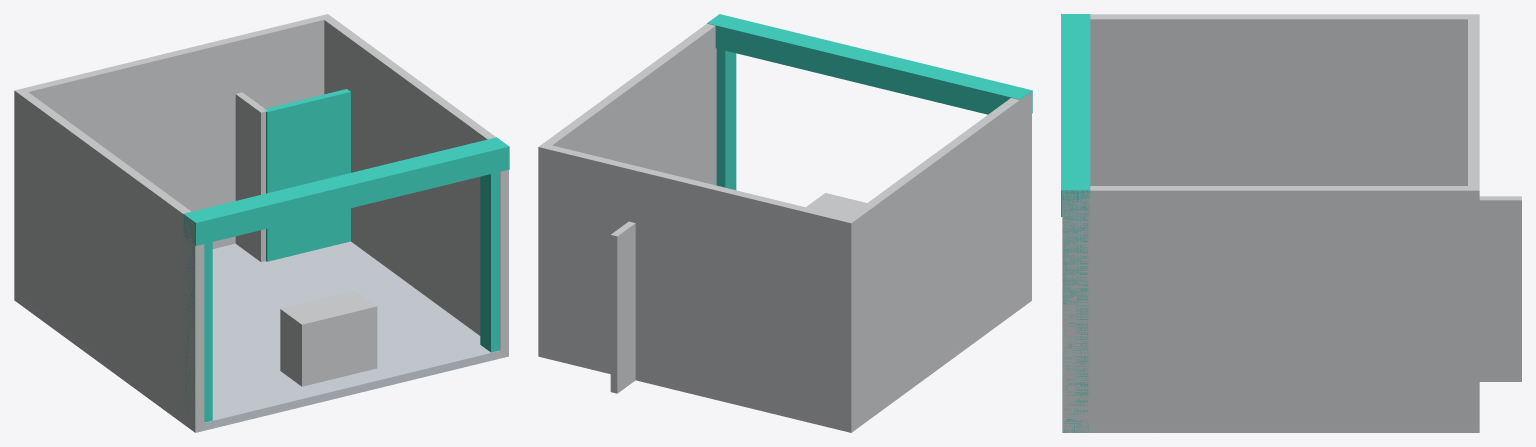
The picture shows the model from 3 angles, left to right: view 1: azimuth 30°, elevation 25°; view 2: azimuth 150°, elevation 25°; view 3: azimuth 270°, elevation 25°; orthographic projection. The views are drawn at different scales.
Visible parts, largest first — view 1: Exhibition Booth Concept; view 2: Exhibition Booth Concept; view 3: Exhibition Booth Concept.
Boxes of the visible parts, <box> form: Exhibition Booth Concept: <box>14,14,509,432</box>; Exhibition Booth Concept: <box>538,14,1032,432</box>; Exhibition Booth Concept: <box>1061,14,1521,432</box>.
Size of the model in its own units: 5 by 3.2 by 5.52.
